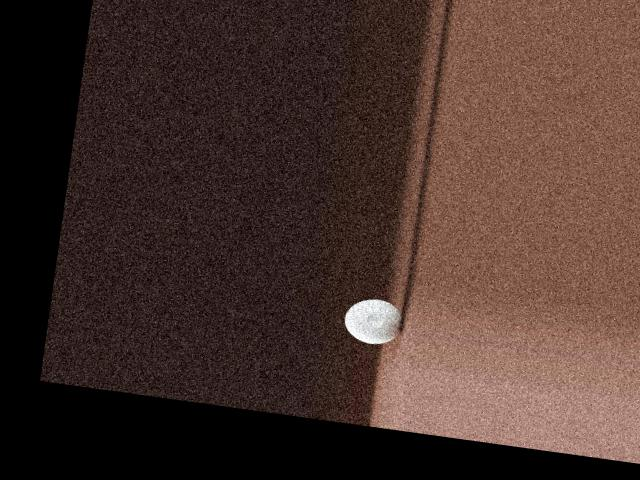egg: (341, 295, 405, 347)
